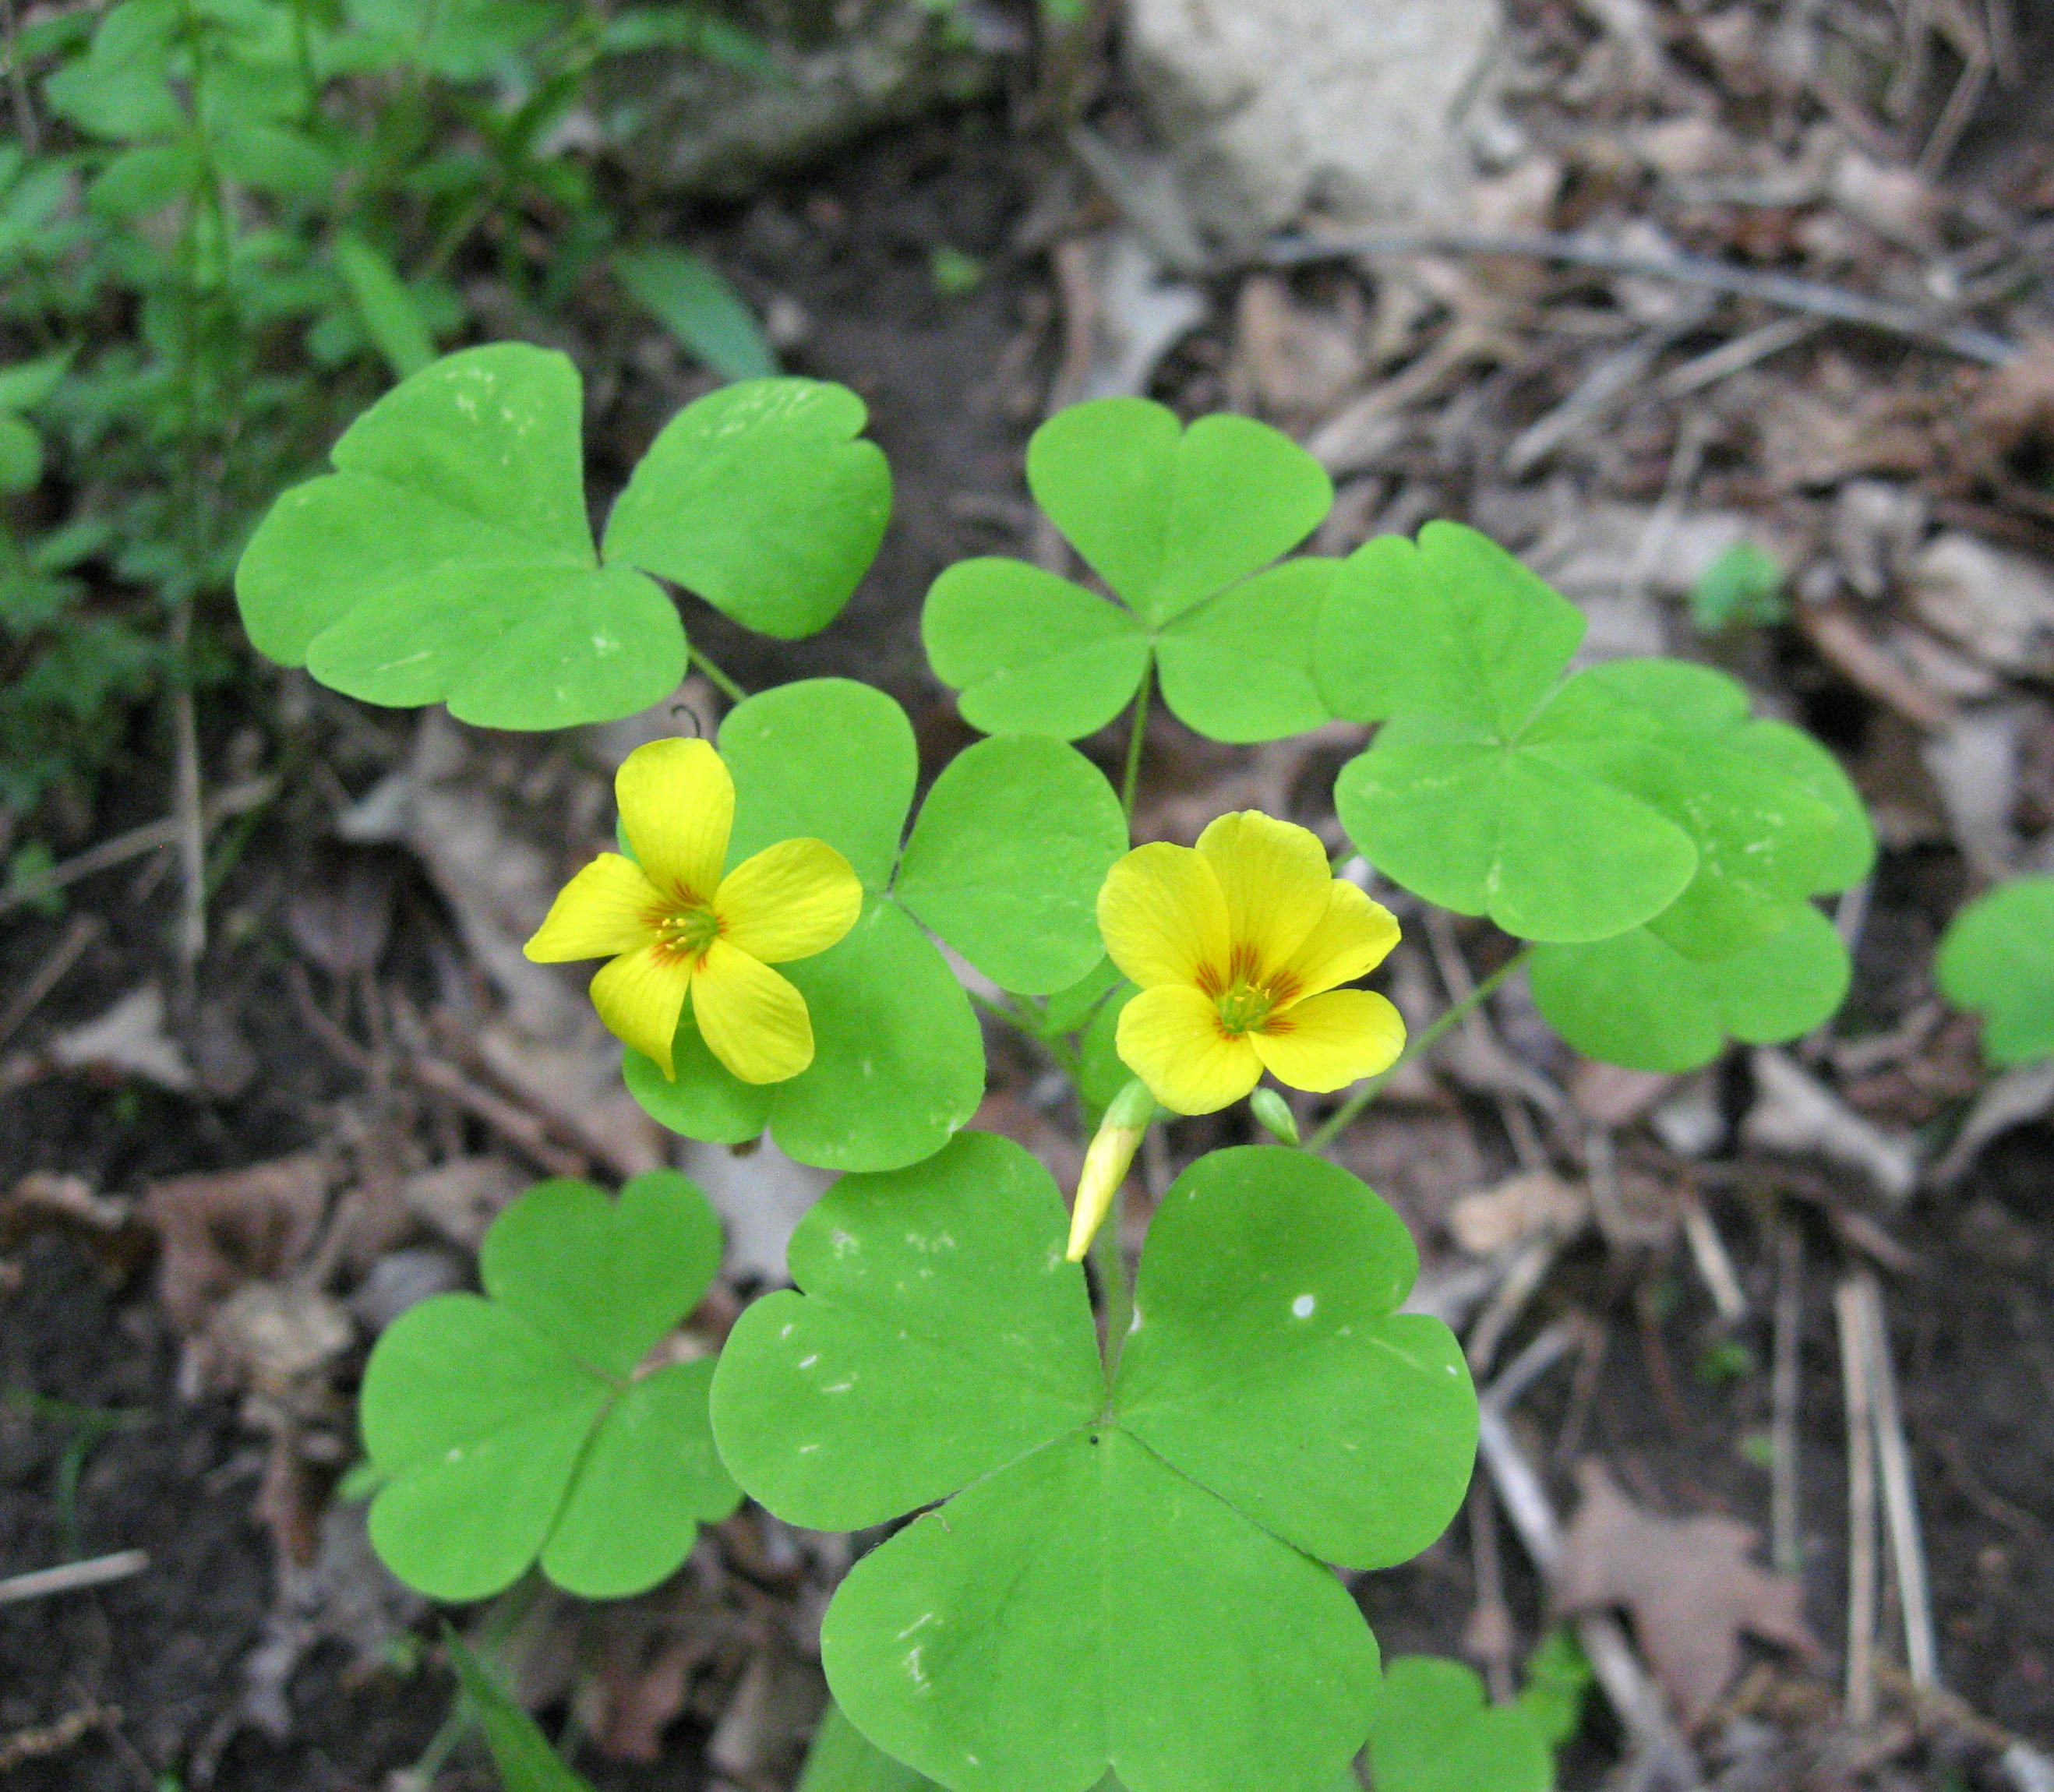oxalis: (185, 327, 1904, 1792)
